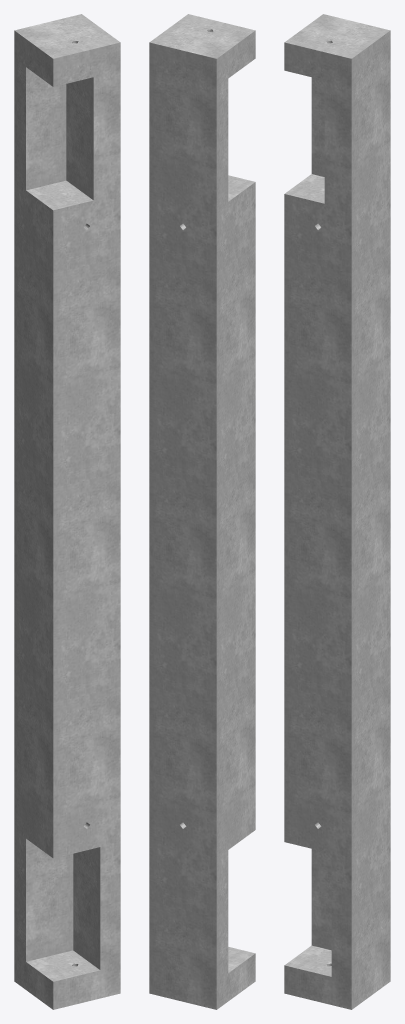
3 views of the same model, side by side, from view 1: azimuth 30°, elevation 25°; view 2: azimuth 150°, elevation 25°; view 3: azimuth 330°, elevation 25° (orthographic).
Visible parts, largest first — view 1: CONECTOR; view 2: CONECTOR; view 3: CONECTOR.
Part boxes in pixels (box(x1,y1,x2,y2)): CONECTOR: box(14, 14, 120, 1009); CONECTOR: box(149, 14, 255, 1009); CONECTOR: box(284, 14, 390, 1009).
Bounding box in the file's own units: 0.3281 × 4.43 × 0.3281.
1 material, 1 textured.
